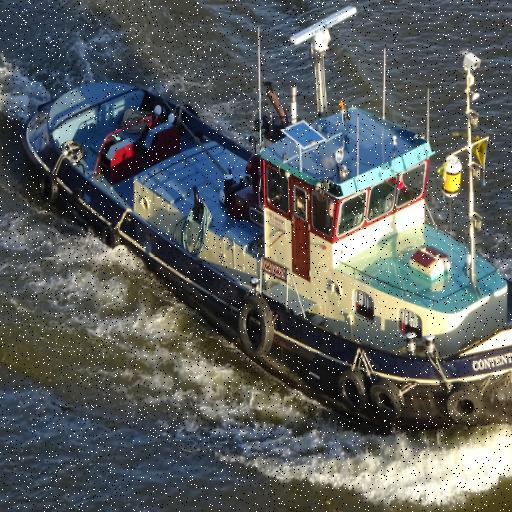tugboat: (19, 1, 512, 476)
